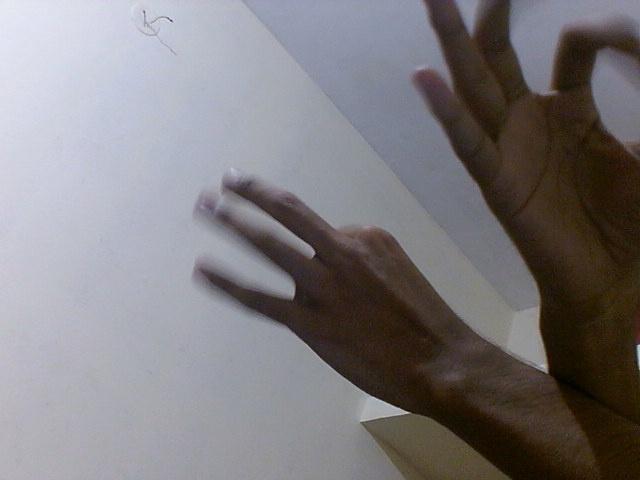hand: (407, 1, 640, 402), (187, 159, 486, 424)
